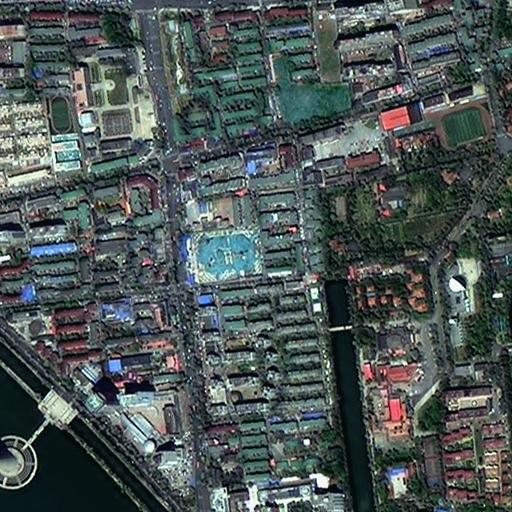school: (377, 82, 500, 165), (42, 92, 85, 180)
